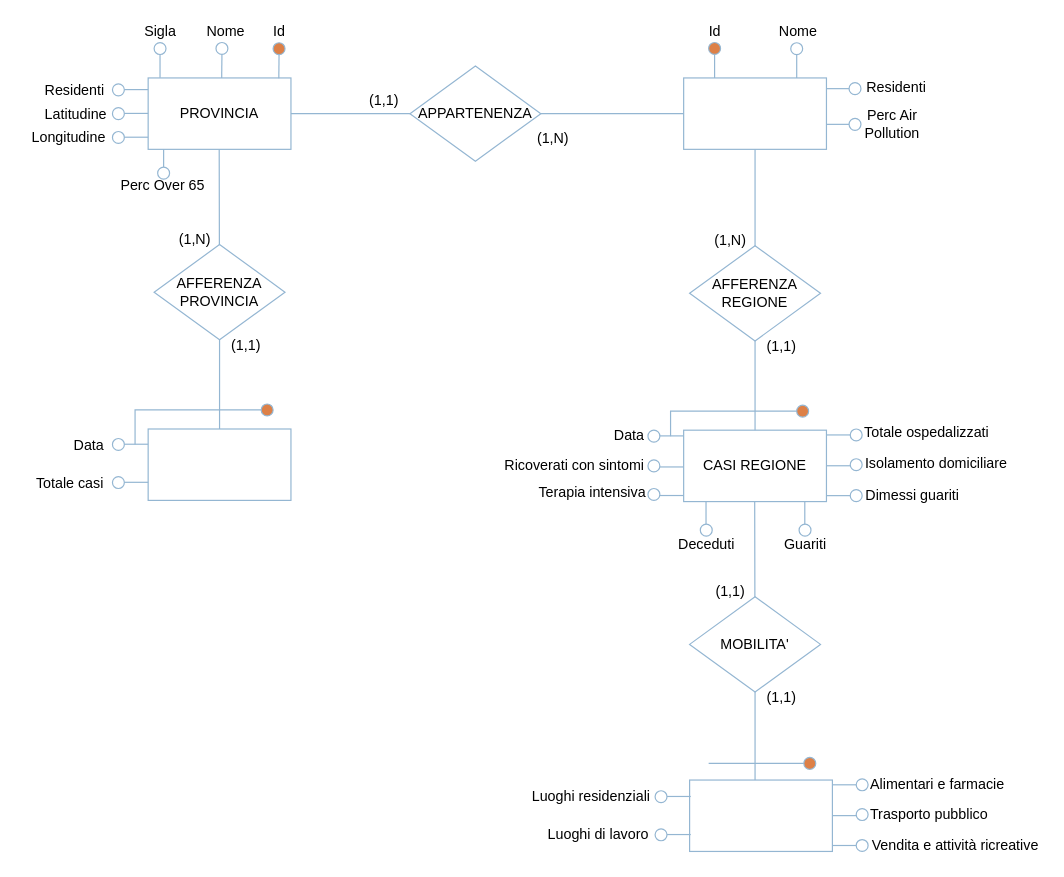
Image size: 1064x877. Some labels were removed from this diagram. Each missing label, with the centre of its shape:
"CASI PROVINCIA" goes at (219,464).
"REGIONE" goes at (754,113).
"SPOSTAMENTO" goes at (760,815).
